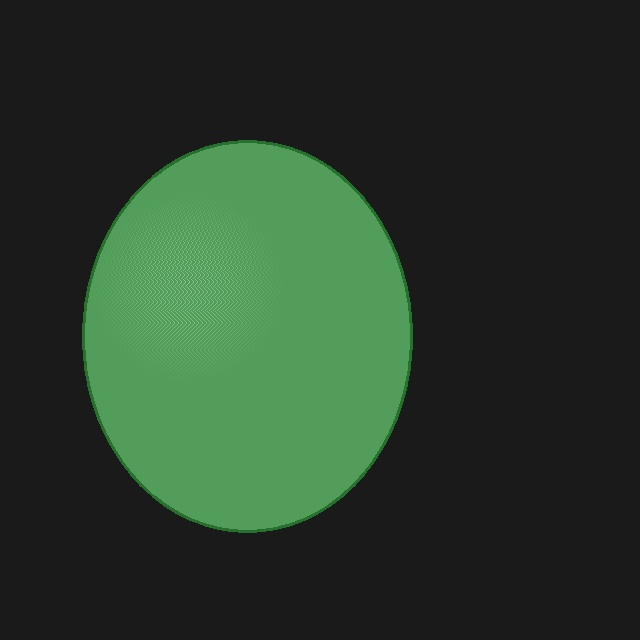lens: (83, 141, 411, 531)
